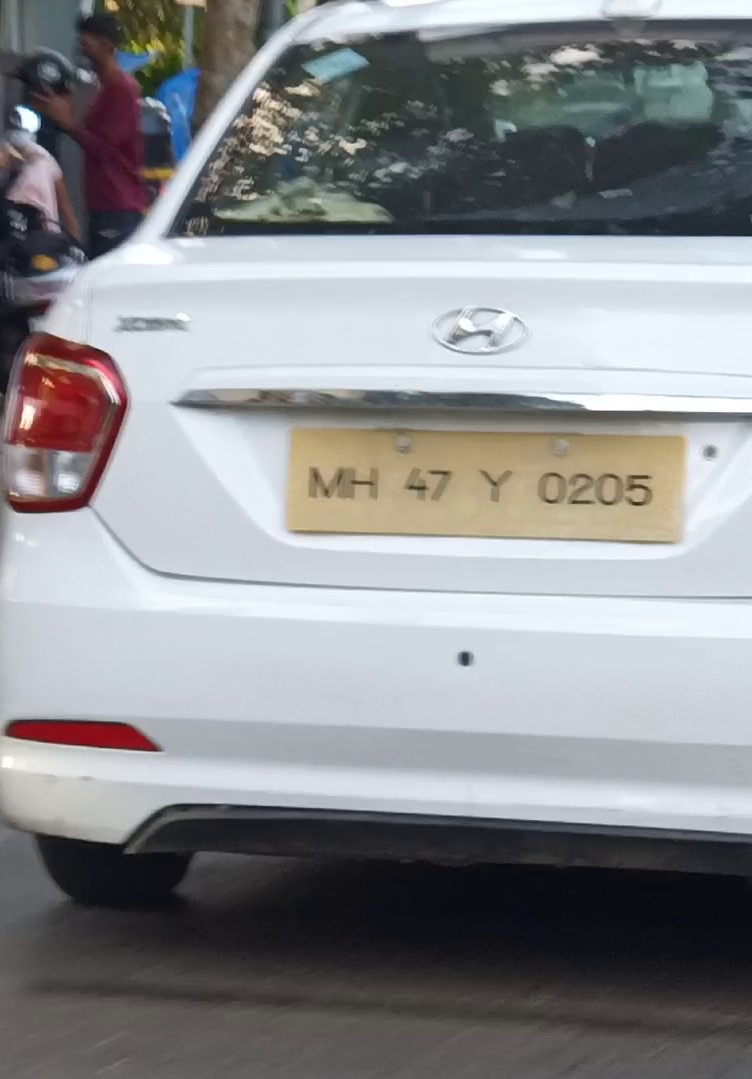MH47Y0205: (287, 427, 687, 541)
